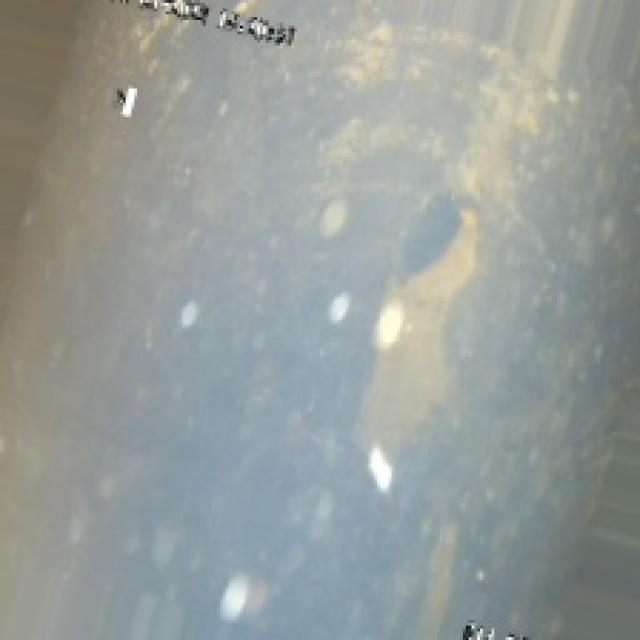pipe_surface_damage: (369, 180, 477, 469)
